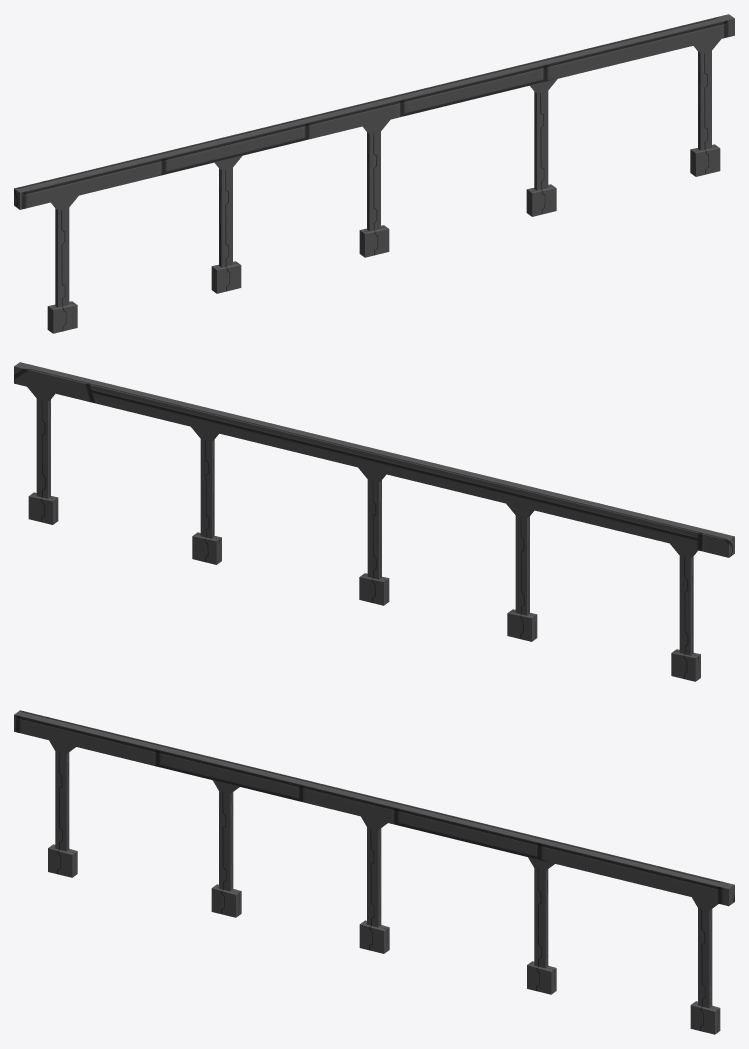
The model's file is Railing 02.fbx.
The picture shows the model from 3 angles, top to bottom: view 1: azimuth 30°, elevation 25°; view 2: azimuth 150°, elevation 25°; view 3: azimuth 330°, elevation 25°; orthographic projection.
Visible parts, largest first — view 1: Railing 02; view 2: Railing 02; view 3: Railing 02.
Boxes of the visible parts, bbox=[...] form: Railing 02: bbox=[14, 14, 734, 333]; Railing 02: bbox=[14, 362, 734, 681]; Railing 02: bbox=[14, 710, 734, 1034].
Size of the model in its own units: 411 by 81.98 by 5.96.
